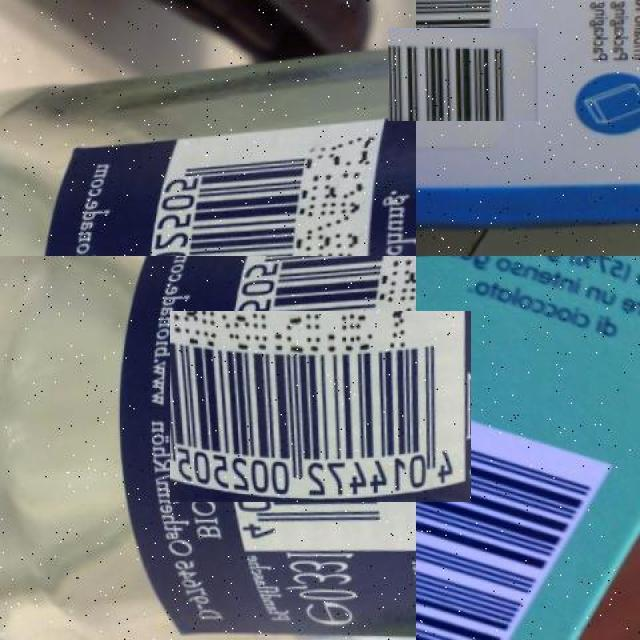Barcode: (197, 283, 443, 530), (416, 367, 616, 640), (144, 119, 381, 256), (402, 14, 524, 136)
